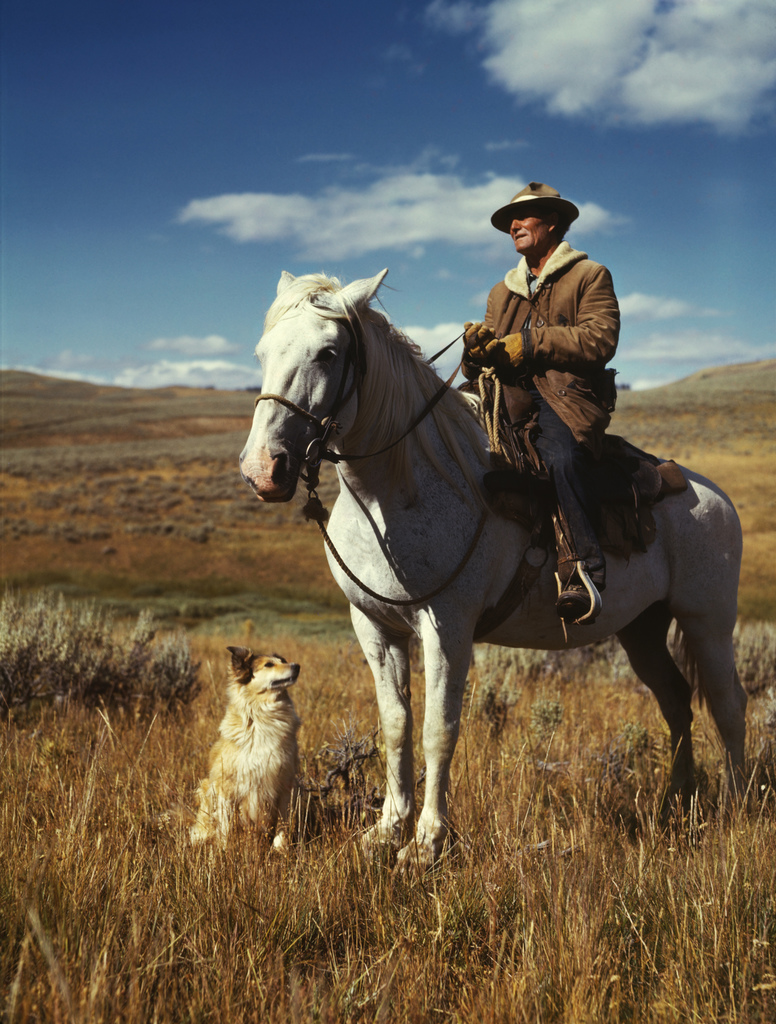horse: (238, 268, 750, 859)
